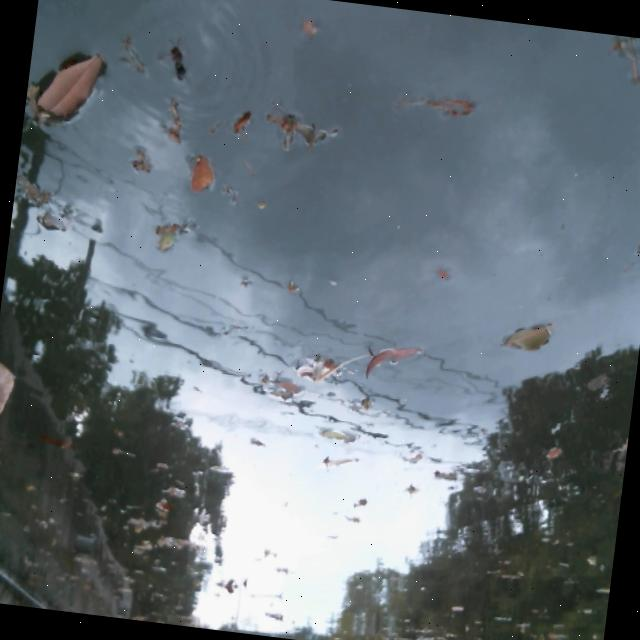Big-leaf: (0, 339, 34, 458)
Small-leaf: (20, 27, 121, 152), (263, 92, 351, 156), (357, 336, 441, 382), (498, 309, 572, 359), (142, 203, 188, 281), (181, 139, 223, 206), (405, 84, 479, 122)
